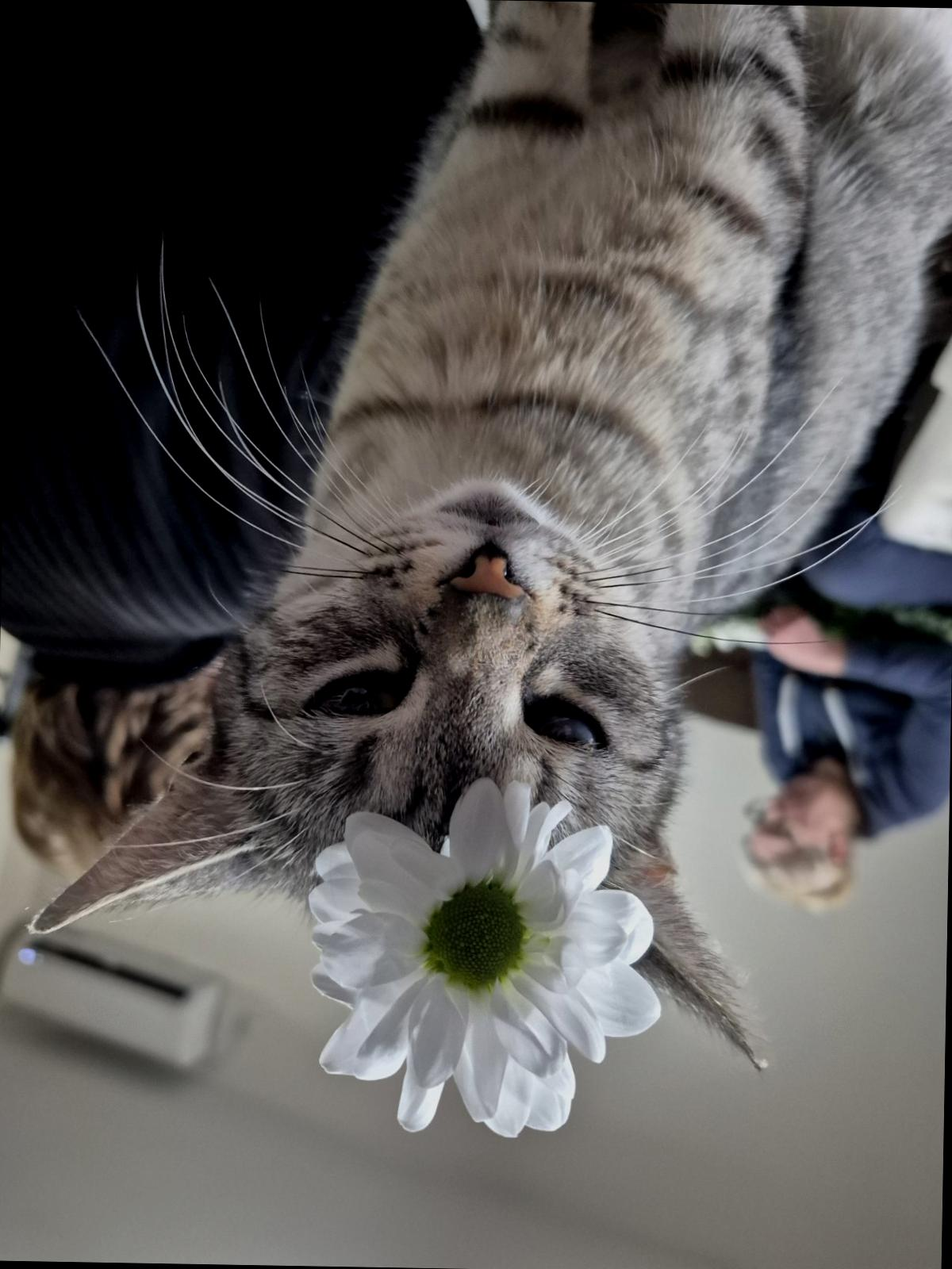macka: (31, 0, 952, 1069)
